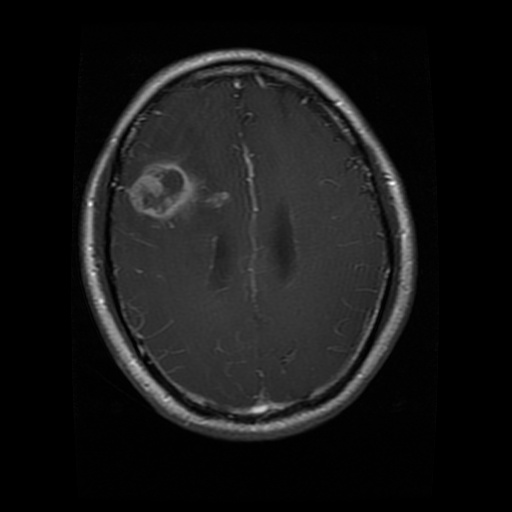glioma: (118, 141, 232, 236)
